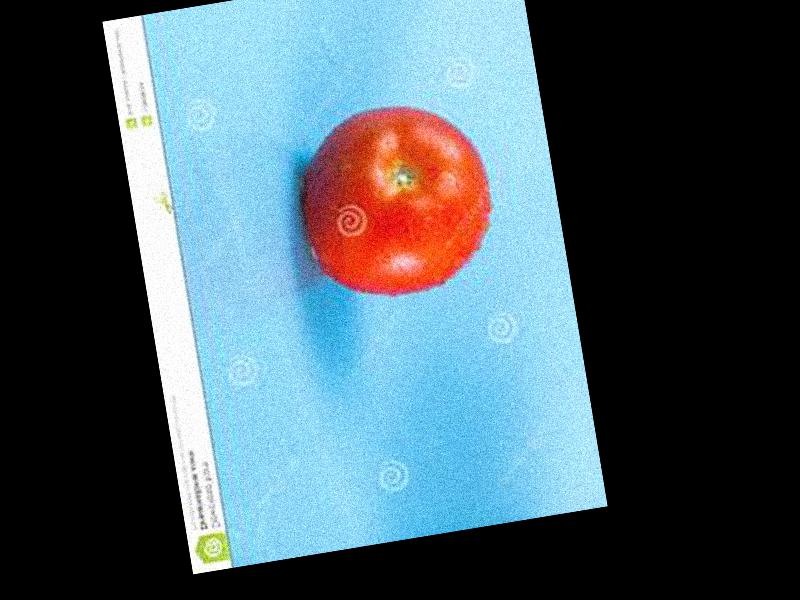Tomato: (290, 90, 503, 308)
